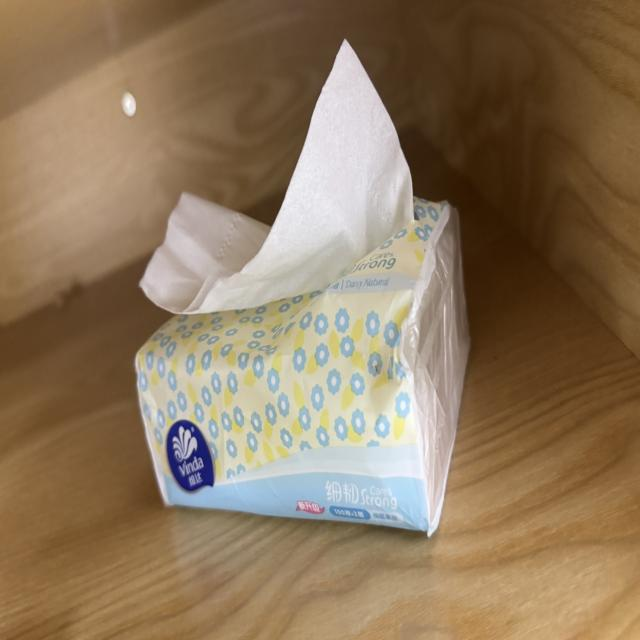tissue: (137, 44, 468, 532), (137, 199, 468, 532), (141, 42, 412, 313), (141, 194, 270, 312)
